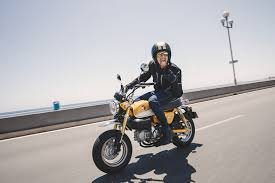motor: (94, 92, 196, 171)
